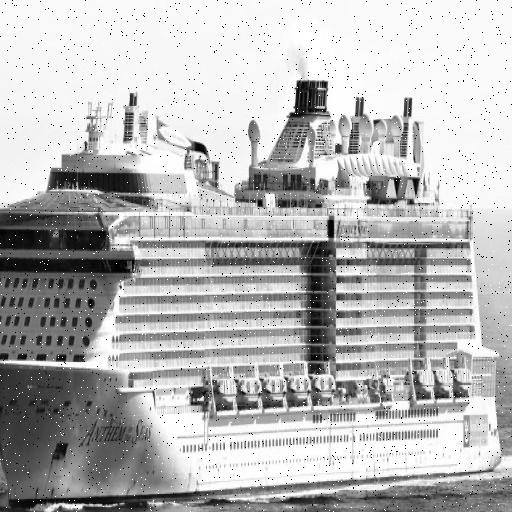cruises: (1, 71, 506, 512)
